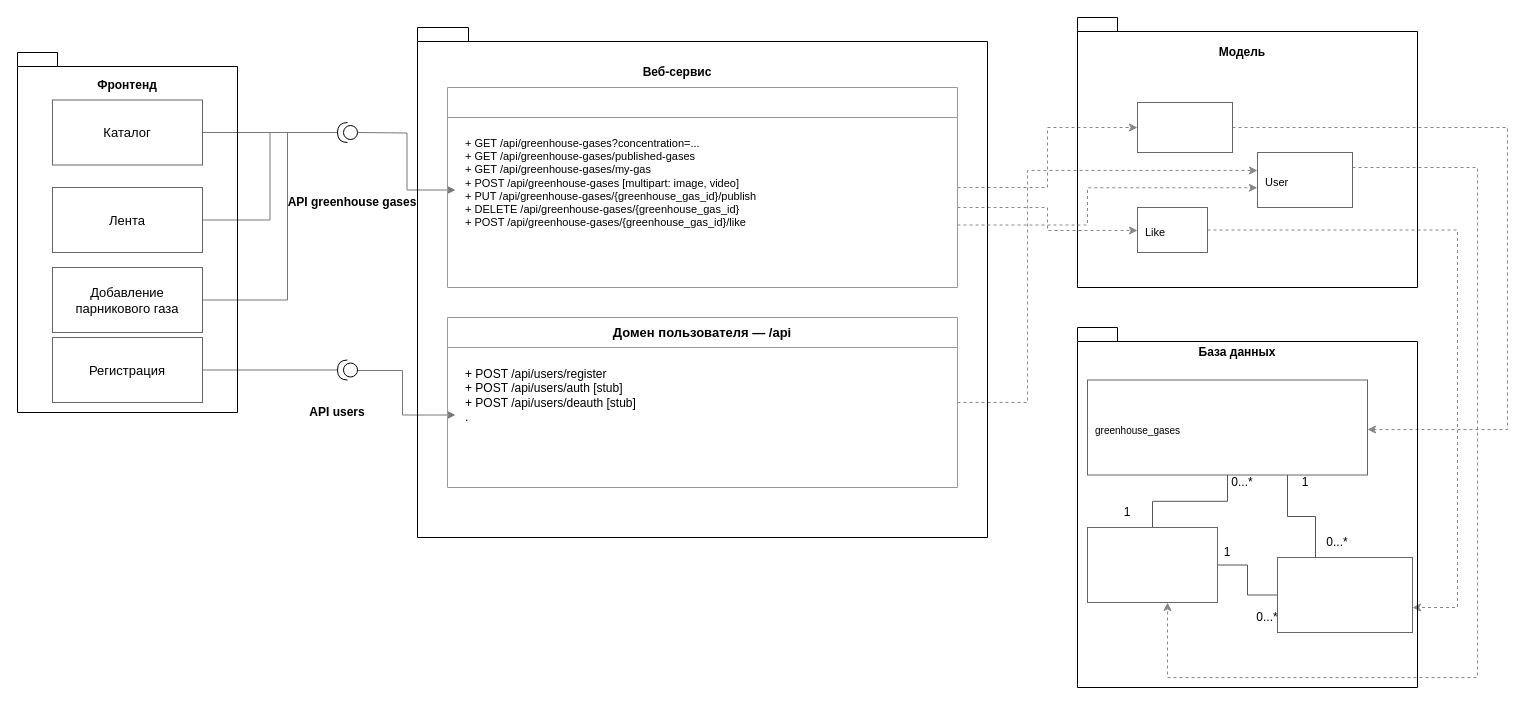
Some shapes in this 1533 by 705 pixel diagram are drawn without their labels. Each missing label, with the box of its shape:
GreenhouseGas: (1136, 102, 1232, 152)
likes: (1276, 556, 1412, 632)
users: (1086, 526, 1218, 602)
Домен парниковых газов — /api: (446, 86, 958, 288)
